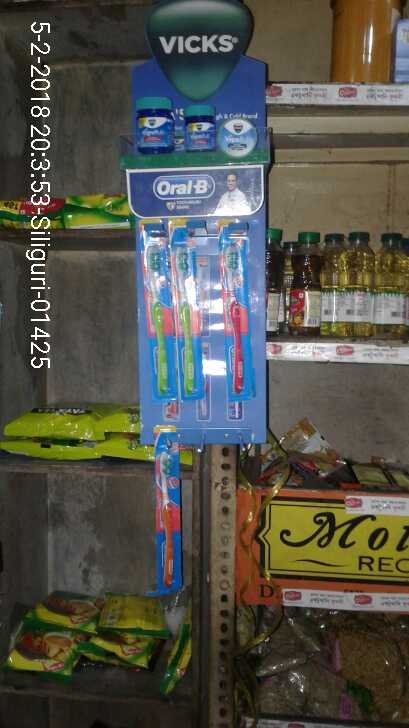pharmacy: (221, 233, 256, 397), (173, 233, 206, 403), (147, 447, 184, 589), (147, 238, 170, 398), (129, 84, 177, 154), (179, 109, 218, 148)
